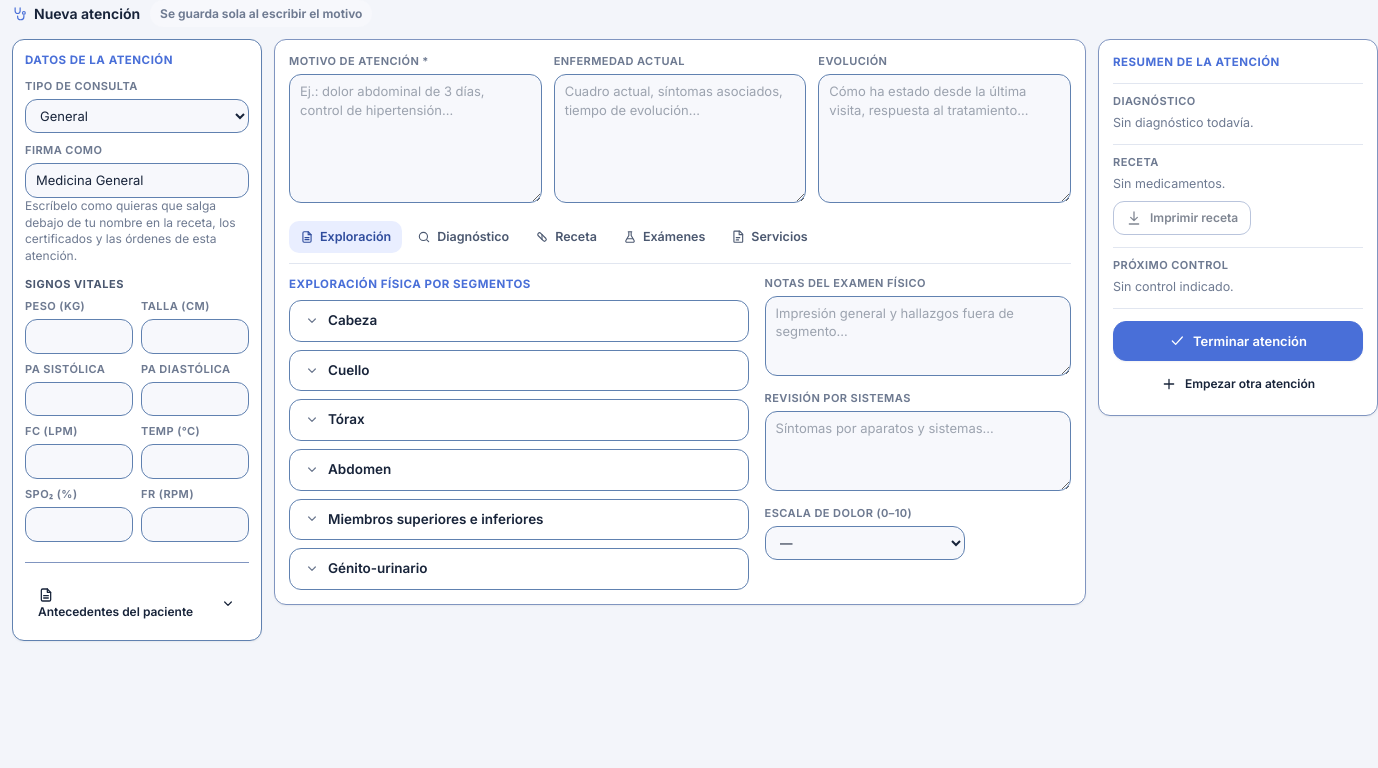
Test: EncounterSection › asks for the reason instead of finishing a visit without one
Click the button "Terminar atención".
click(1238, 341)  # box [1113,321,1363,361]
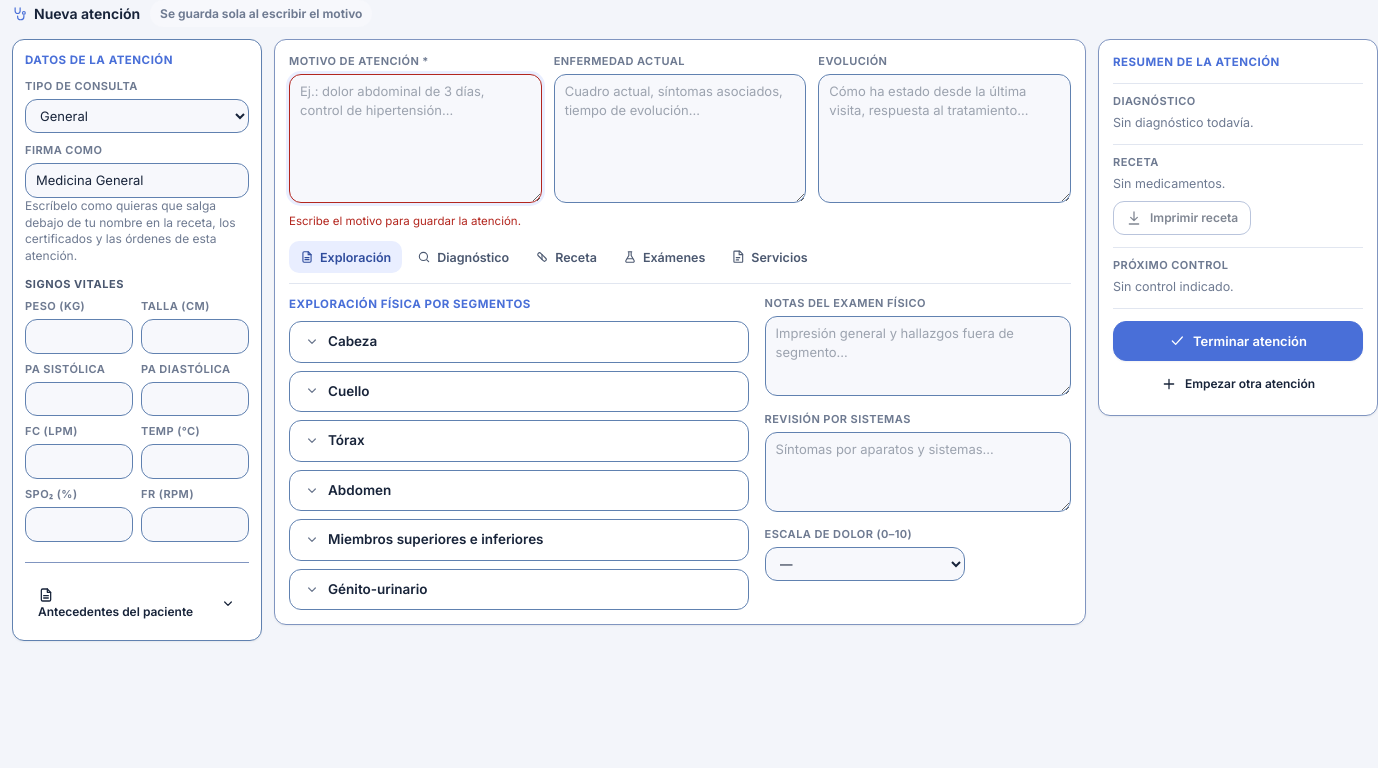
Check: the text "Escribe el motivo para guardar la atención." is shown, box [289,213,542,229]
